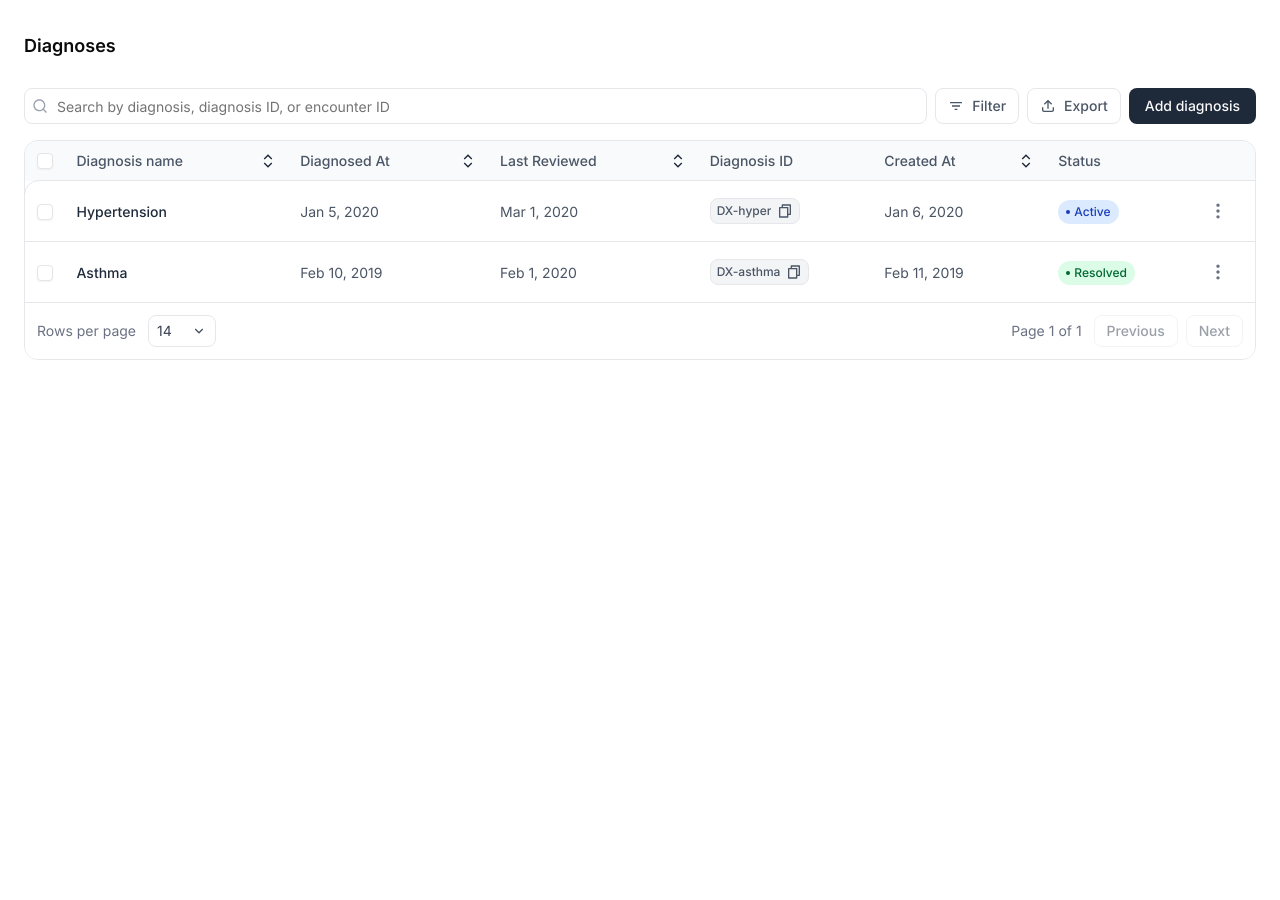
Test: Diagnoses table › keeps the edit form open and shows why the changes were not saved
The image size is (1280, 900).
Click the button named "Open actions for Asthma" at point(1218, 272), box [1200,254,1236,290]
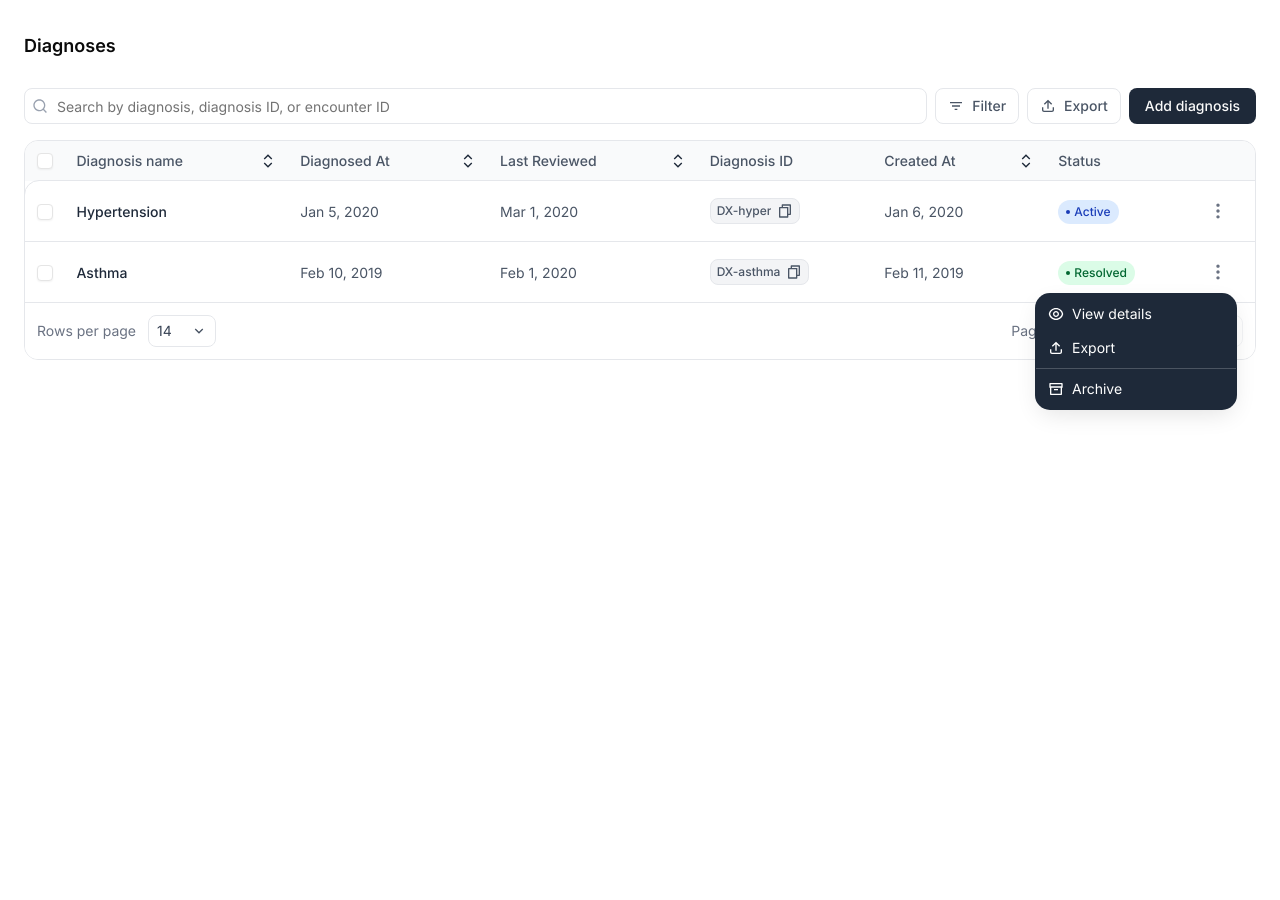
Click the menu item "View details" at point(1100, 314), box [1048,305,1152,322]
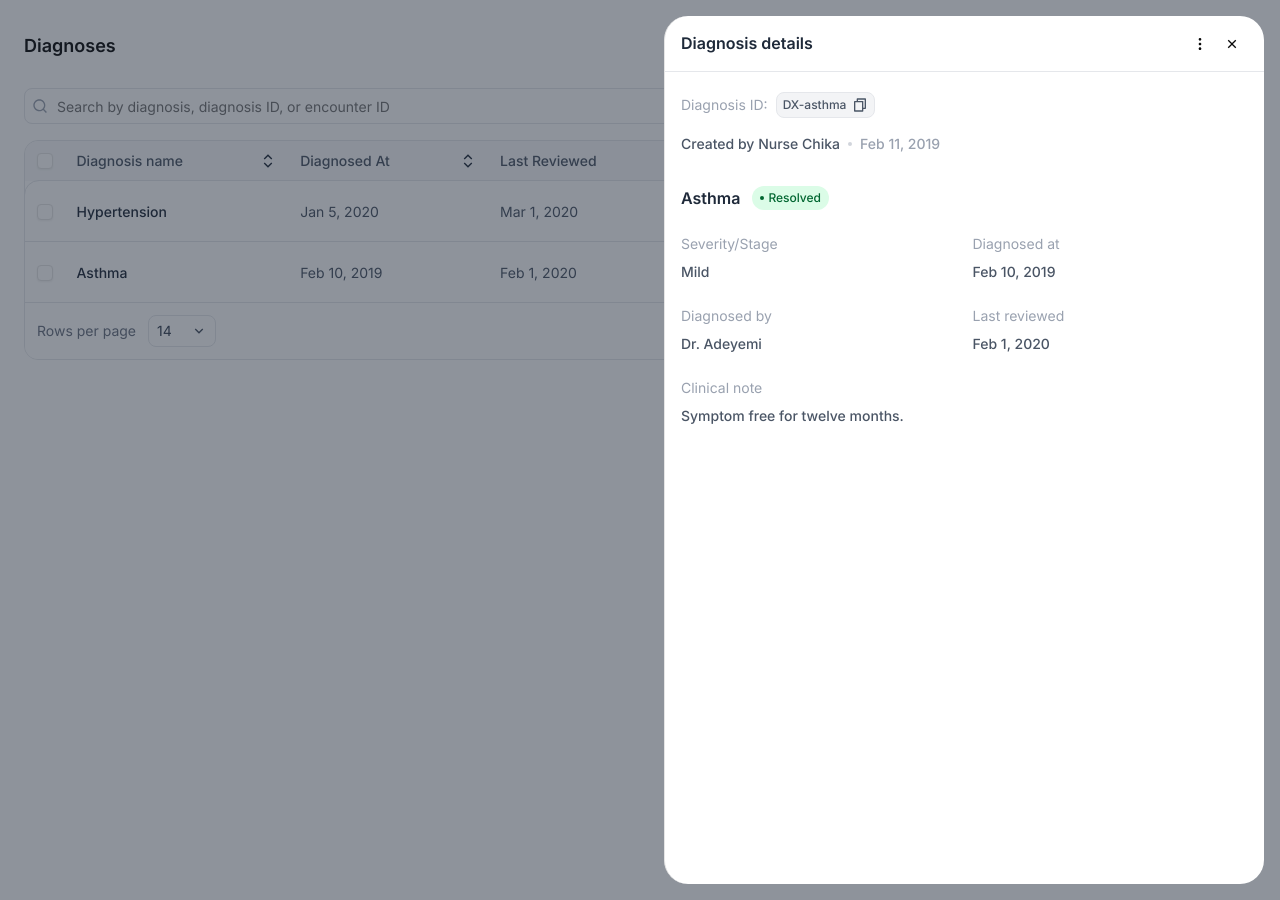
Expected: the heading "Asthma" is shown, [681,186,740,210]
Click the button named "Diagnosis actions" at point(1200, 44), box [1184,28,1216,60]
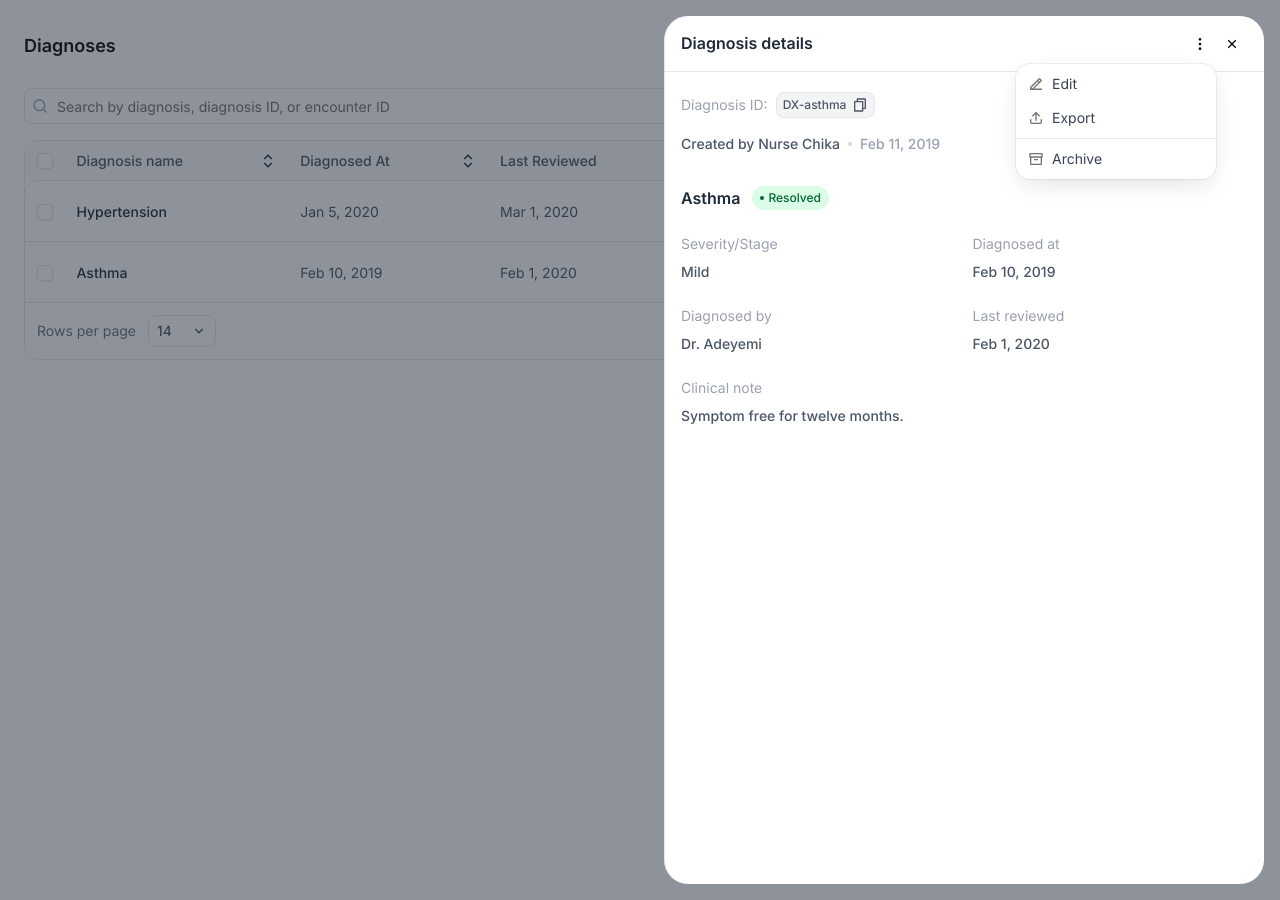
Click the menu item "Edit" at point(1052, 84), box [1028,75,1077,92]
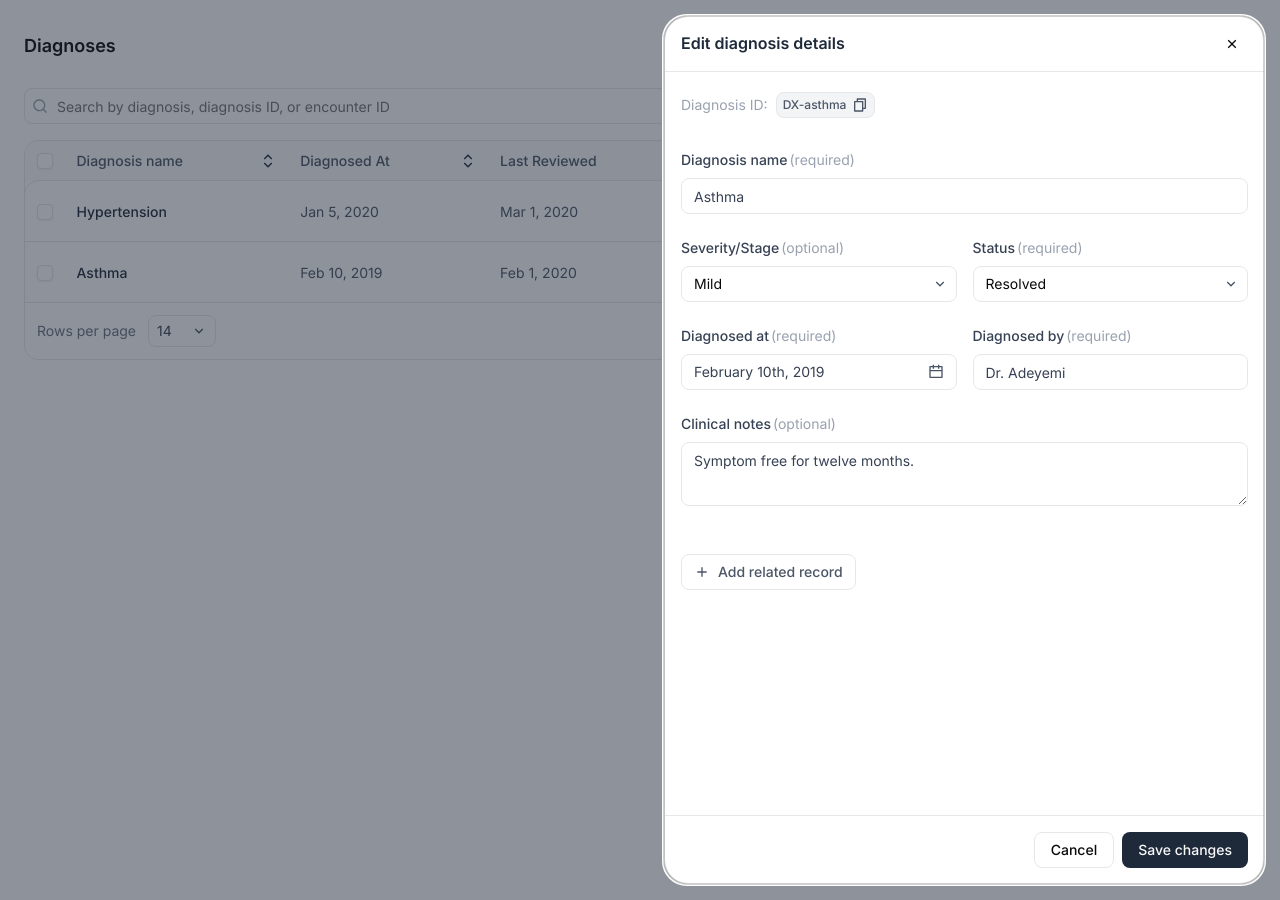
Click the button "Save changes" at point(1185, 850), box [1122,832,1248,868]
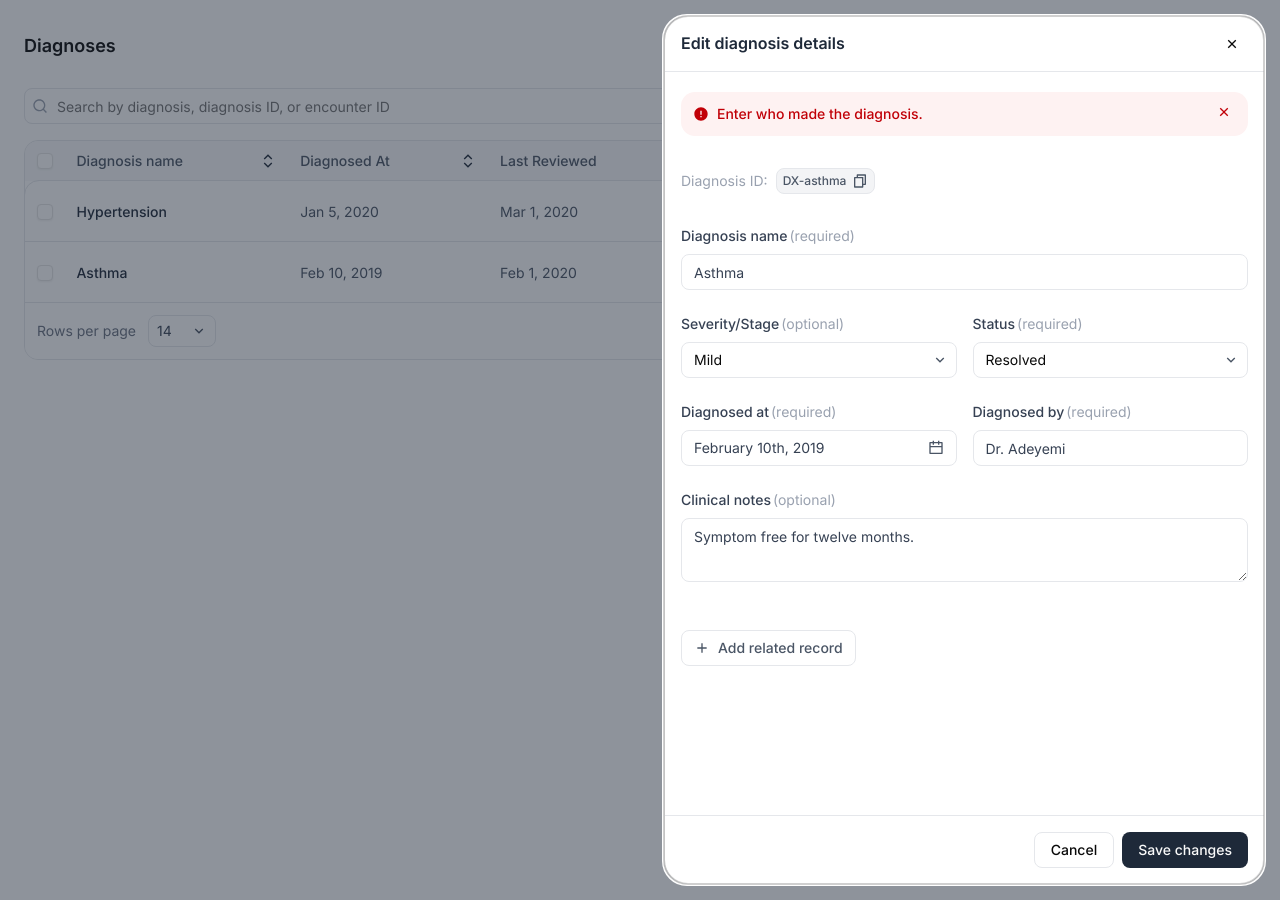
Expected: the field labelled "Diagnosis name (required)" holds "Asthma", [681,254,1248,290]
Expected: the message reads "Enter who made the diagnosis.", [717,105,923,122]
